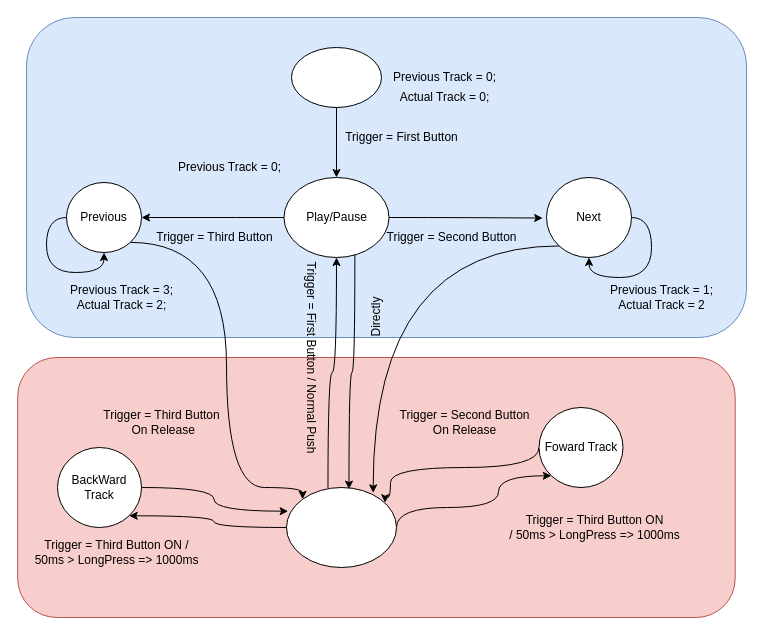
The diagram is 764 pixels wide and 635 high, and some of its shapes have lost their labels. The shapes that lost their labels are listed below. From the top down, each one's box as (x1, y1, x2, y2) in pixels, then its label:
(290, 46, 382, 108): STOP
(286, 486, 396, 568): Rotabit Counter
